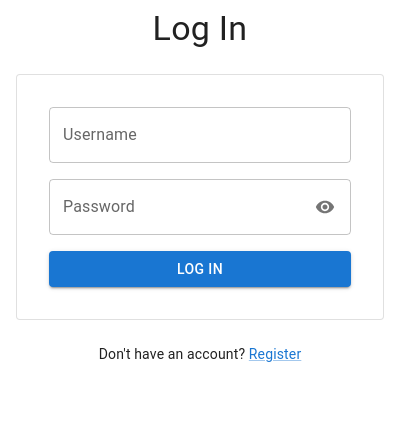
it: LoginPage › shows the server error message and stays on the page when login fails
The width and height of the screenshot is (401, 444).
In the field labelled "Username": (200, 135) [49, 107, 351, 163], type "alice"
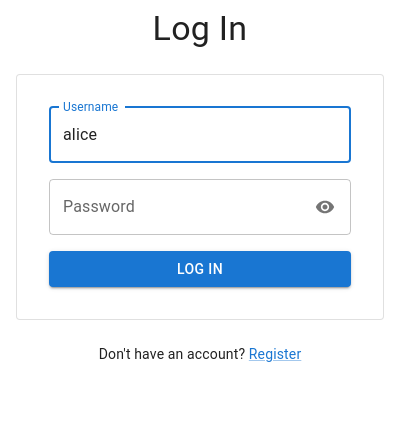
In the password field labelled "Password": (176, 207) [49, 179, 302, 235], type "wrong"
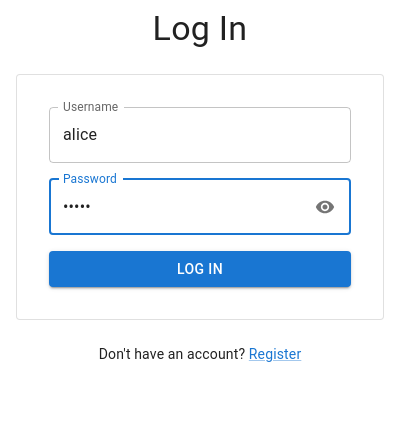
Click the button "Log In": (200, 269) [49, 251, 351, 288]
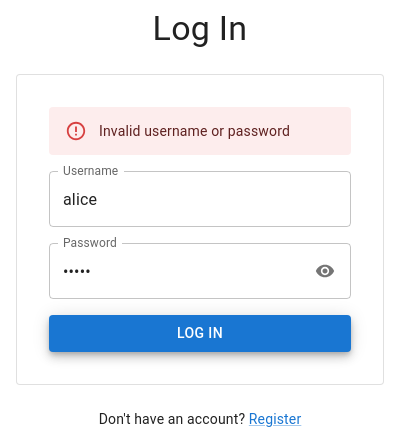
Result: the text "Invalid username or password" is shown at [99, 123, 290, 139]
